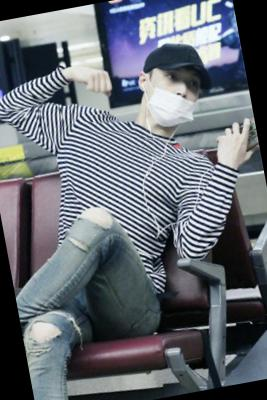mask_weared_incorrect: (144, 63, 207, 128)
